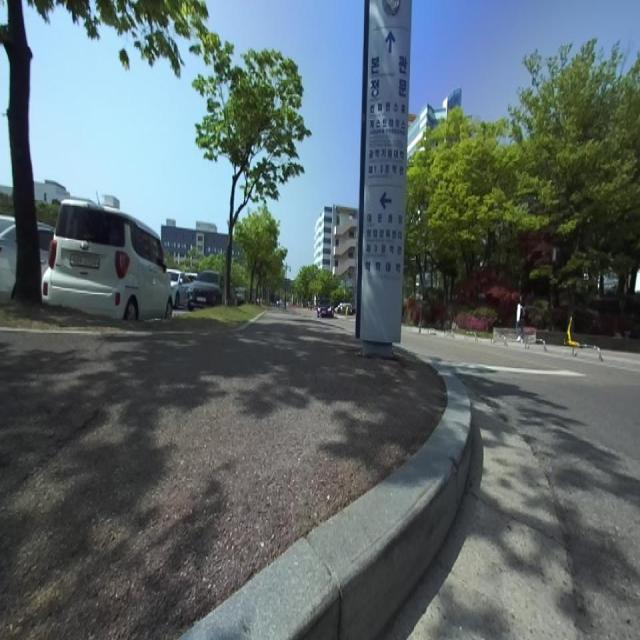sidewalk: (0, 312, 446, 639), (180, 361, 471, 640)
